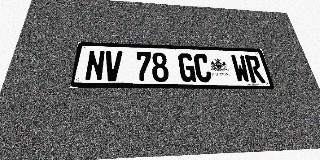7: (135, 52, 152, 82)
8: (152, 52, 169, 82)
C: (193, 54, 212, 82)
G: (178, 53, 196, 82)
N: (84, 50, 105, 81)
R: (244, 55, 266, 83)
V: (103, 51, 122, 81)
W: (230, 55, 251, 83)
